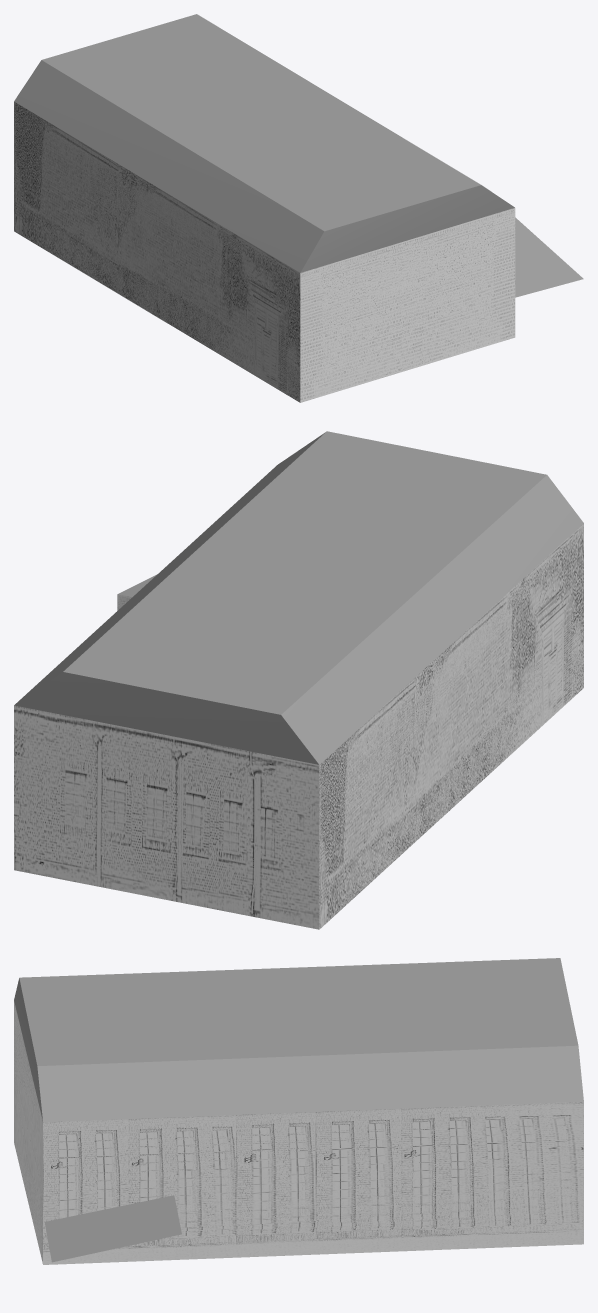
The model's file is Walter-Frenzel-Bau.gltf.
3 renders of one model, top to bottom at view 1: azimuth 30°, elevation 25°; view 2: azimuth 150°, elevation 25°; view 3: azimuth 270°, elevation 25°, orthographic. The views are drawn at different scales.
Parts seen in each view (by area): view 1: Dach.1; view 2: Dach.1; view 3: Dach.1.
Boxes of the visible parts, left/top/right/bottom form: Dach.1: left=14, top=14, right=583, bottom=402; Dach.1: left=14, top=431, right=583, bottom=929; Dach.1: left=14, top=958, right=583, bottom=1264.
Bounding box in the file's own units: 30.12 × 13.85 × 39.83.
Materials: 6 (5 with a texture image).
